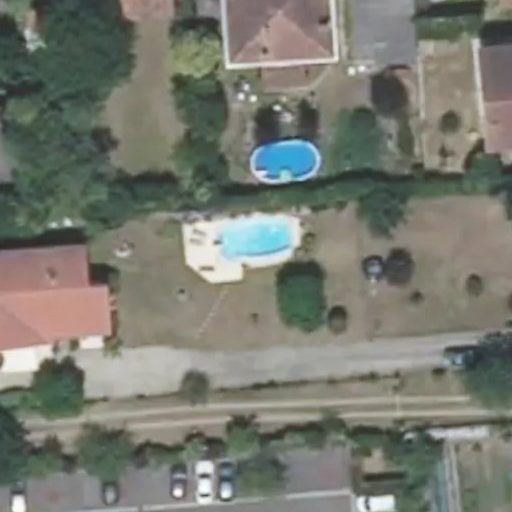pool: (211, 227, 300, 251)
